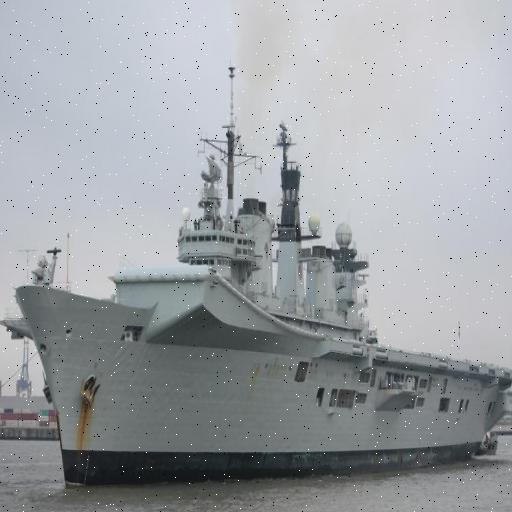Portanaves: (15, 52, 512, 502)
